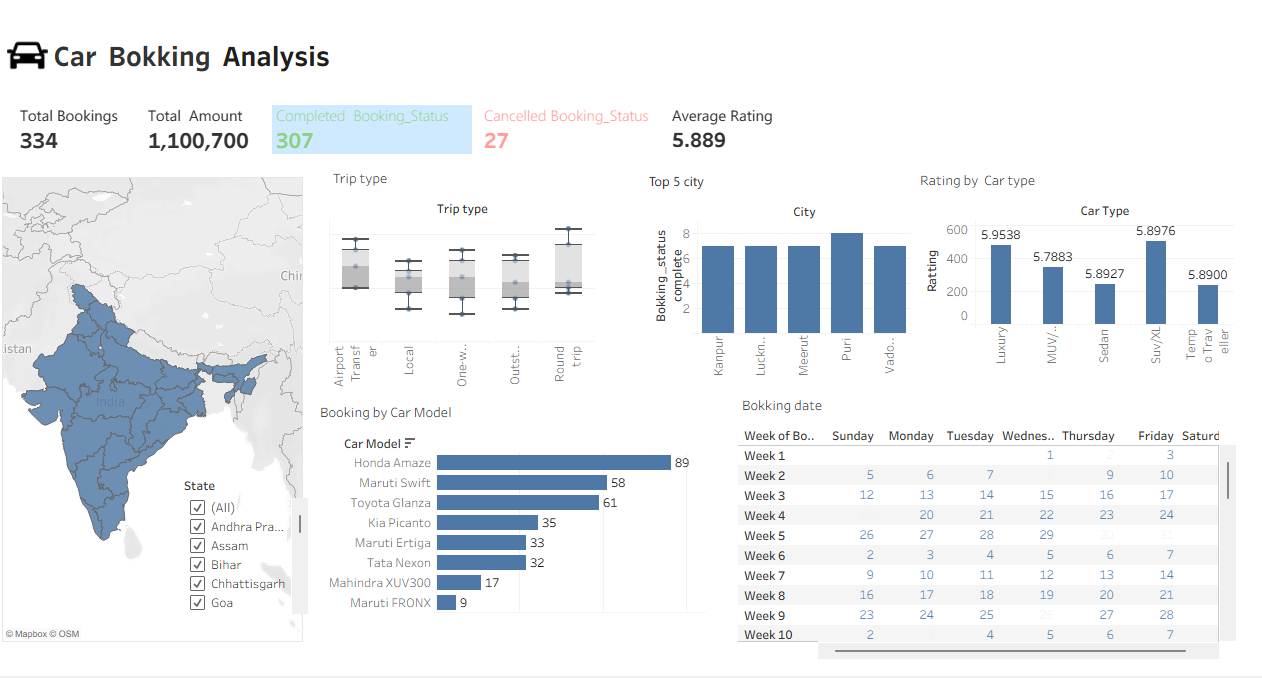

The dashboard page shown, as its layout file describes it:
{"tool":"tableau","page":{"name":"Dashboard 2","canvas":[1600,900],"ordinal":0},"visuals":[{"type":"blank","box":[8,8,1424,884]},{"type":"legend","title":"Sheet 21","param":"[federated.1v4n4de0qyv8j010wjlhq03faryt].[none:City:nk]","box":[1432,8,160,22]},{"type":"legend","title":"Sheet 21","param":"[federated.1v4n4de0qyv8j010wjlhq03faryt].[sum:Calculation_662873575606337538:qk]","box":[1432,30,160,22]},{"type":"title","box":[53,34,1206,54]},{"type":"image","param":"Image/car (1).png","box":[9,41,41,45]},{"type":"worksheet","title":"Sheet 5","mark":"Automatic","box":[14,92,128,110]},{"type":"worksheet","title":"Sheet 1","mark":"Automatic","box":[142,92,128,110]},{"type":"worksheet","title":"Sheet 2","mark":"Automatic","box":[270,92,208,110]},{"type":"worksheet","title":"Sheet 3","mark":"Automatic","box":[478,92,188,110]},{"type":"worksheet","title":"Sheet 4","mark":"Automatic","box":[666,92,128,110]},{"type":"worksheet","title":"Sheet 6","mark":"Multipolygon","box":[4,168,301,480]},{"type":"worksheet","title":"Sheet 23","mark":"Circle","rows":["Calculation_662873575606337538"],"cols":["Trip type"],"box":[331,171,266,224]},{"type":"worksheet","title":"Sheet 18","mark":"Automatic","rows":["Ratting"],"cols":["Car_Type"],"box":[918,173,318,199]},{"type":"worksheet","title":"Sheet 21","mark":"Automatic","rows":["Calculation_662873575606337538"],"cols":["City"],"box":[647,174,266,209]},{"type":"worksheet","title":"Sheet 20","mark":"Automatic","rows":["Booking Date"],"cols":["Booking Date"],"box":[740,398,498,267]},{"type":"worksheet","title":"Sheet 14","mark":"Automatic","rows":["Car Model"],"cols":["Calculation_662873575604346880"],"box":[318,405,390,239]},{"type":"filter","title":"Sheet 6","param":"[federated.1v4n4de0qyv8j010wjlhq03faryt].[none:State:nk]","box":[186,483,124,137]}]}

Visuals, with their boxes on the page's 1600x900 design canvas (x1, y1, x2, y2). These are canvas units, not pixel positions in the 1262x678 screenshot, which may show the page scaled, cropped or inside an application window:
blank: <region>8, 8, 1432, 892</region>
"Sheet 21" legend: <region>1432, 8, 1592, 30</region>
"Sheet 21" legend: <region>1432, 30, 1592, 52</region>
title: <region>53, 34, 1259, 88</region>
image: <region>9, 41, 50, 86</region>
"Sheet 5" worksheet: <region>14, 92, 142, 202</region>
"Sheet 1" worksheet: <region>142, 92, 270, 202</region>
"Sheet 2" worksheet: <region>270, 92, 478, 202</region>
"Sheet 3" worksheet: <region>478, 92, 666, 202</region>
"Sheet 4" worksheet: <region>666, 92, 794, 202</region>
"Sheet 6" worksheet (Multipolygon marks): <region>4, 168, 305, 648</region>
"Sheet 23" worksheet (Circle marks): <region>331, 171, 597, 395</region>
"Sheet 18" worksheet: <region>918, 173, 1236, 372</region>
"Sheet 21" worksheet: <region>647, 174, 913, 383</region>
"Sheet 20" worksheet: <region>740, 398, 1238, 665</region>
"Sheet 14" worksheet: <region>318, 405, 708, 644</region>
"Sheet 6" filter: <region>186, 483, 310, 620</region>
